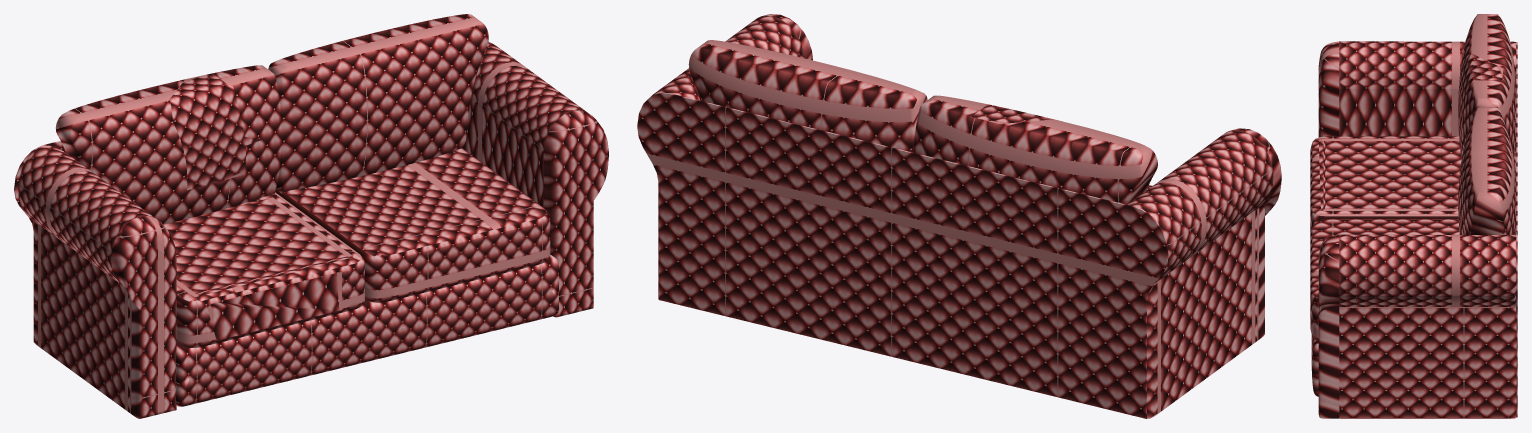
File: sofa9.glb
The picture shows the model from 3 angles, left to right: view 1: azimuth 30°, elevation 25°; view 2: azimuth 150°, elevation 25°; view 3: azimuth 270°, elevation 25°; orthographic projection. The views are drawn at different scales.
Parts seen in each view (by area): view 1: sofa4; view 2: sofa4; view 3: sofa4.
Boxes of the visible parts, x1,y1,x2,y2 form: sofa4: (14,14,608,418); sofa4: (637,14,1281,418); sofa4: (1310,14,1517,418).
Size of the model in its own units: 5.46 by 2.47 by 2.19.
Materials: 1 (1 with a texture image).
